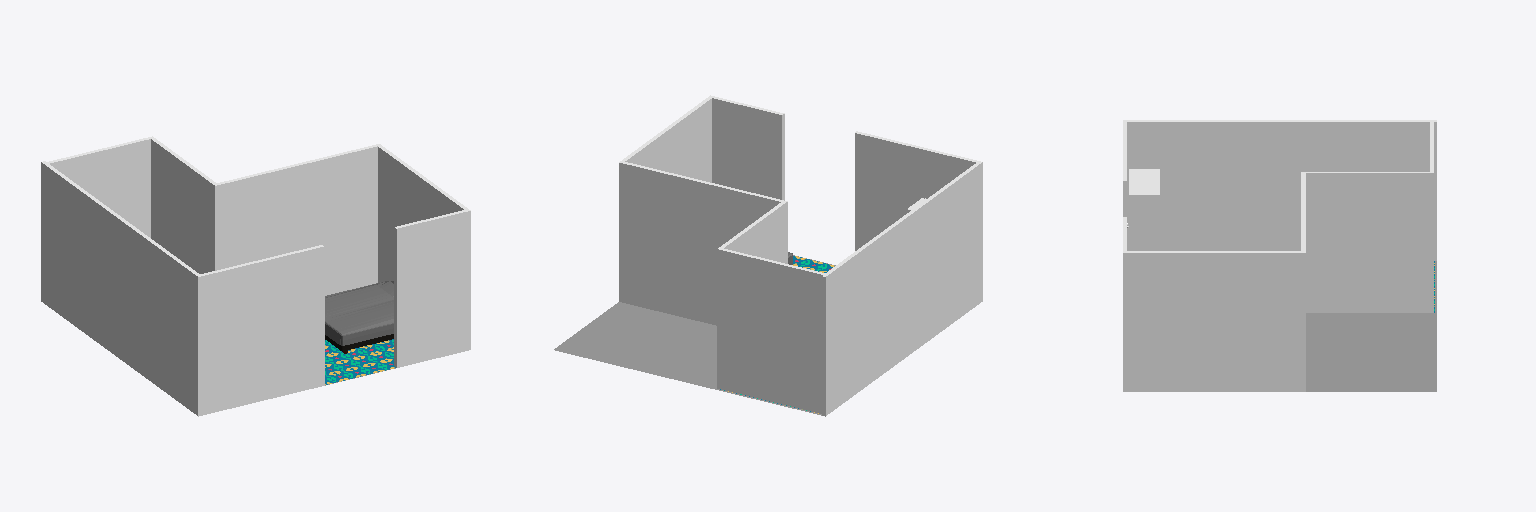
3 views of the same model, side by side, from view 1: azimuth 30°, elevation 25°; view 2: azimuth 150°, elevation 25°; view 3: azimuth 270°, elevation 25° (orthographic).
Visible parts, largest first — view 1: wall_1_5, wall_6_35, wall_3_16, wall_7_41, wall_4_22, wall_5_28, wall_2_10, 54, room_8_44; view 2: wall_1_5, wall_3_17, wall_5_29, ground_1, wall_6_34, wall_7_40, wall_2_10, wall_4_22; view 3: wall_1_4, wall_2_11, wall_4_23, ground_1, Corps_45.
Part boxes in pixels (x1,y1,x2,y2): wall_1_5: (41,162,197,415); wall_6_35: (198,246,324,416); wall_3_16: (215,146,377,295); wall_7_41: (396,211,470,367); wall_4_22: (151,139,214,273); wall_5_28: (50,139,150,237); wall_2_10: (378,147,463,282); 54: (325,281,393,345); room_8_44: (325,339,395,384); wall_1_5: (824,162,982,416); wall_3_17: (619,163,780,325); wall_5_29: (717,249,822,413); ground_1: (554,255,835,415); wall_6_34: (855,133,975,250); wall_7_40: (712,98,782,199); wall_2_10: (625,99,711,182); wall_4_22: (724,202,787,263); wall_1_4: (1127,122,1436,260); wall_2_11: (1123,253,1305,391); wall_4_23: (1306,173,1433,312); ground_1: (1306,261,1436,391); Corps_45: (1130,169,1159,250).
Bounding box in the file's own units: 512 × 250 × 512.
11 materials, 1 textured.